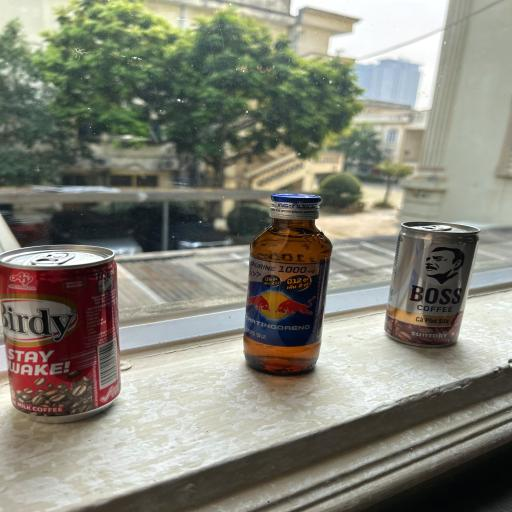birdy: (2, 242, 124, 428)
bo_huc: (229, 188, 333, 379)
boss_coffee: (382, 220, 478, 346)
